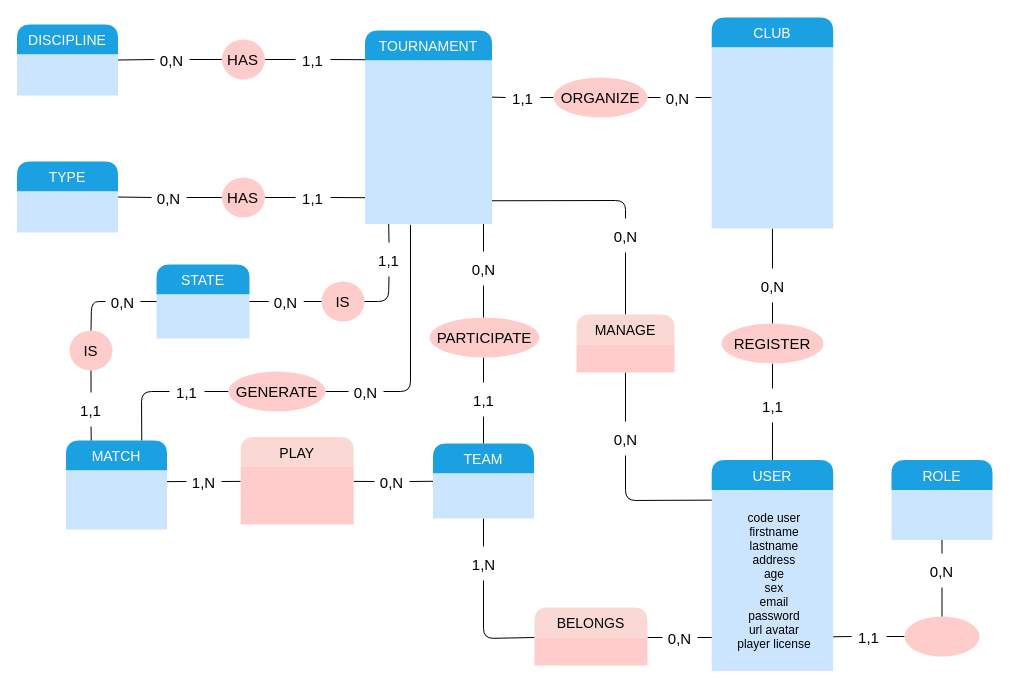
Image size: 1010x688. Some labels were removed from this diagram. Here are the shapes that lost their labels. From the top down, the centre of each, then its label:
(67,74): code discipline name
(428,142): code tournament title date description picture url nb playground player limit
(772,137): code club name address phone email logo url website club ref description
(67,211): code type name
(202,316): code state name
(625,358): code manage
(116,499): code match name note
(296,495): code play is winner score
(483,495): code team
(941,515): code role name
(590,651): code belongs
(941,636): ACCESS
